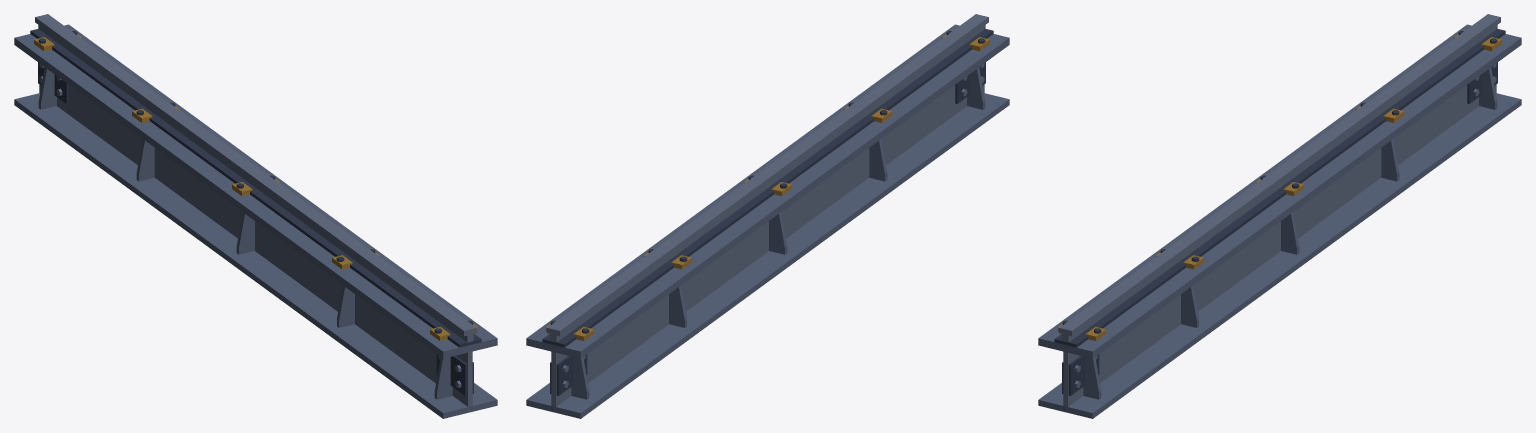
The model's file is wh_crane_rail.glb.
The picture shows the model from 3 angles, left to right: view 1: azimuth 30°, elevation 25°; view 2: azimuth 150°, elevation 25°; view 3: azimuth 330°, elevation 25°; orthographic projection.
Visible parts, largest first — view 1: lower_flange, fishbolt, clamp_nut, rail_clip; view 2: lower_flange, fishbolt, clamp_nut, rail_clip; view 3: lower_flange, fishbolt, clamp_nut, rail_clip.
Boxes of the visible parts, x1,y1,x2,y2 form: lower_flange: (14,24,497,418); fishbolt: (35,14,476,406); clamp_nut: (30,29,481,395); rail_clip: (34,30,477,340); lower_flange: (526,24,1009,418); fishbolt: (547,14,988,406); clamp_nut: (542,29,993,395); rail_clip: (546,30,989,340); lower_flange: (1038,24,1521,418); fishbolt: (1059,14,1500,406); clamp_nut: (1054,29,1505,395); rail_clip: (1058,30,1501,340).
Size of the model in its own units: 0.44 by 0.64 by 6.
